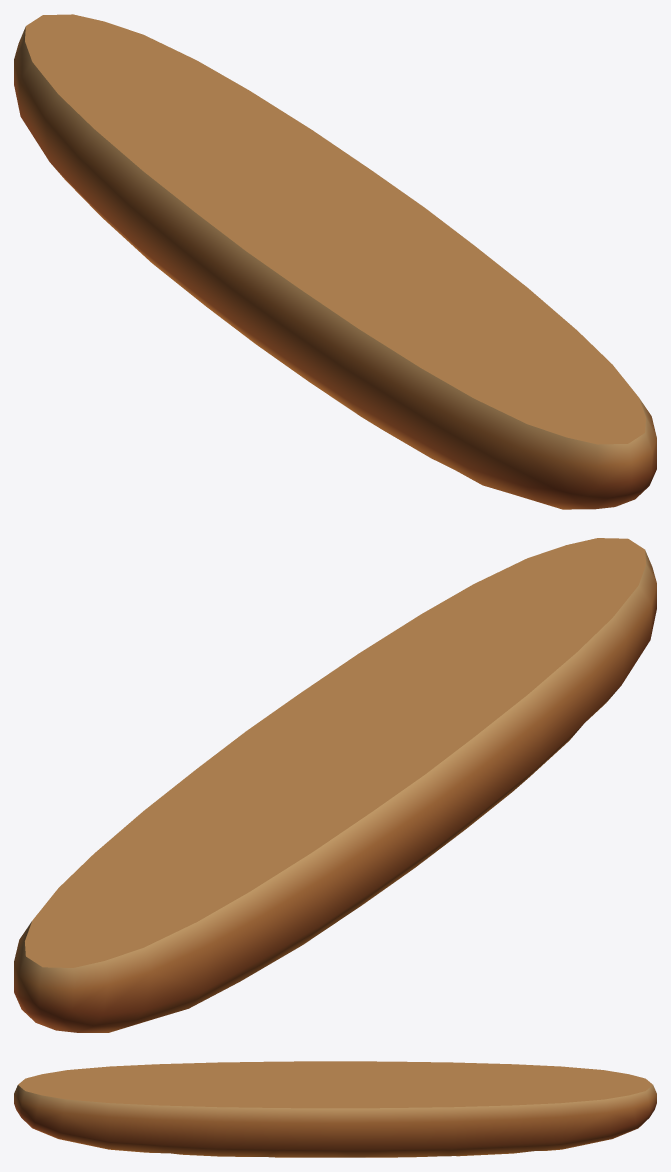
The model's file is Melee_Baguette.fbx.
3 views of the same model, one above another, from view 1: azimuth 30°, elevation 25°; view 2: azimuth 150°, elevation 25°; view 3: azimuth 270°, elevation 25° (orthographic). The views are drawn at different scales.
Visible parts, largest first — view 1: Melee_Baguette; view 2: Melee_Baguette; view 3: Melee_Baguette.
Part boxes in pixels (x1=…): Melee_Baguette: x1=14, y1=14, x2=656, y2=509; Melee_Baguette: x1=14, y1=538, x2=656, y2=1032; Melee_Baguette: x1=14, y1=1061, x2=656, y2=1157.
Size of the model in its own units: 0.1988 by 0.1052 by 0.967.
